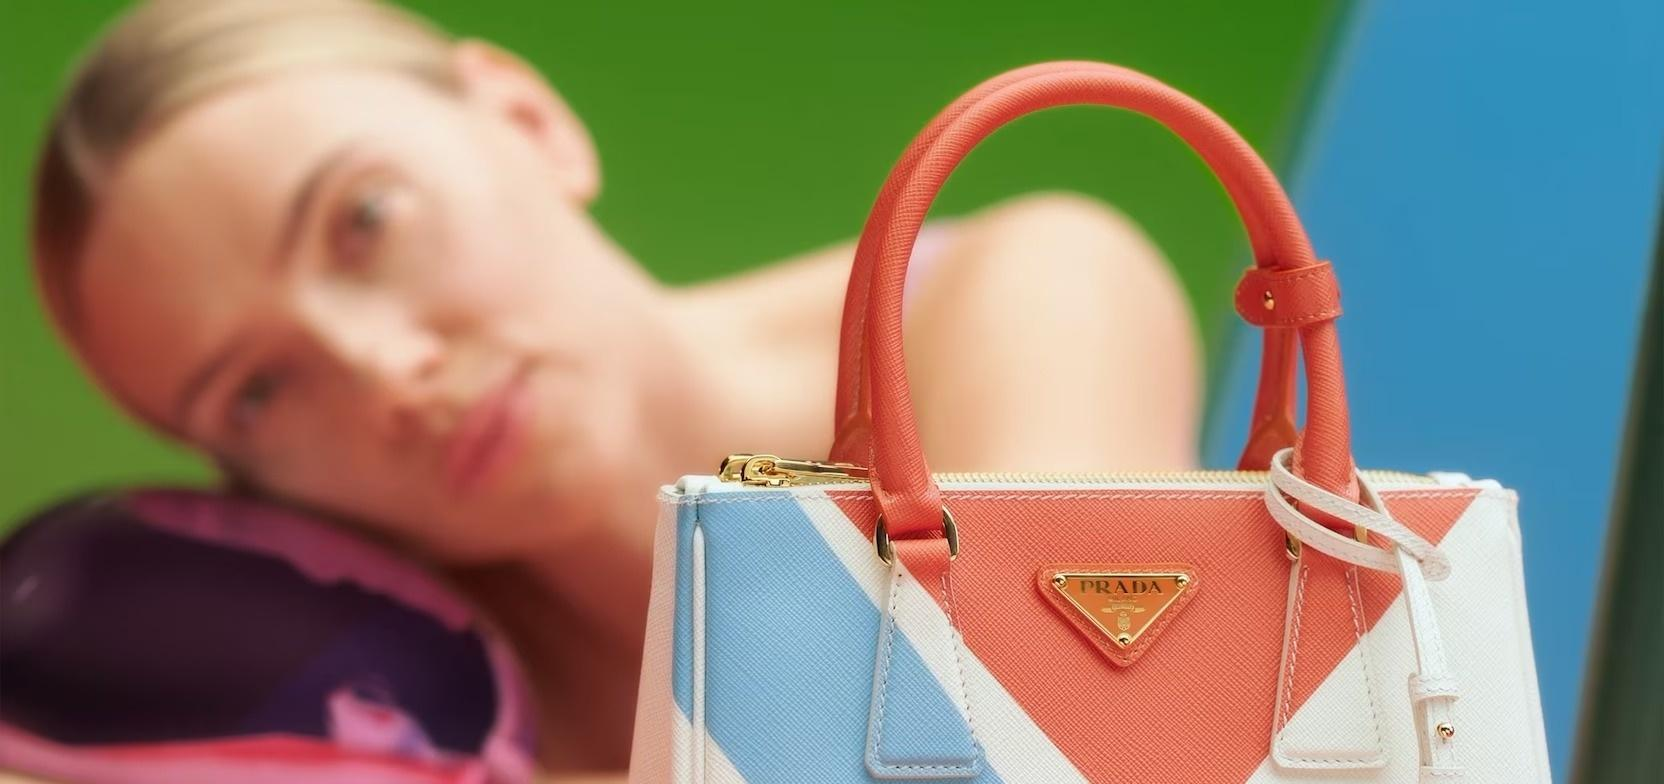PRADA: (1053, 572, 1189, 648)
